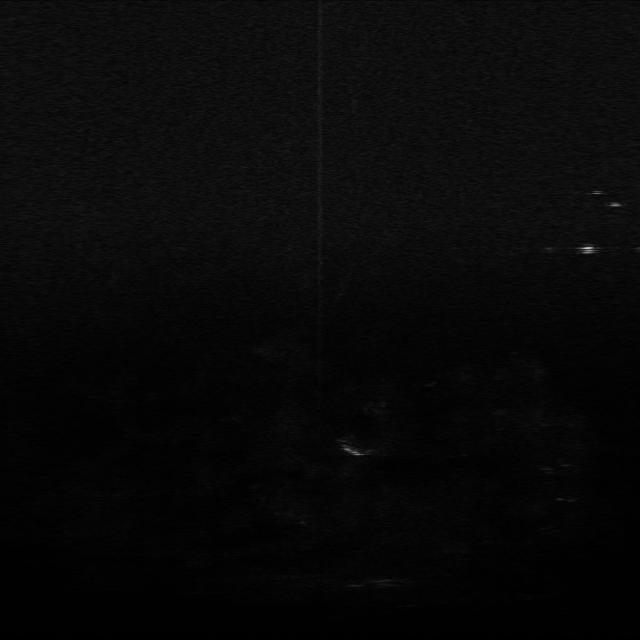rov: (572, 242, 599, 260)
